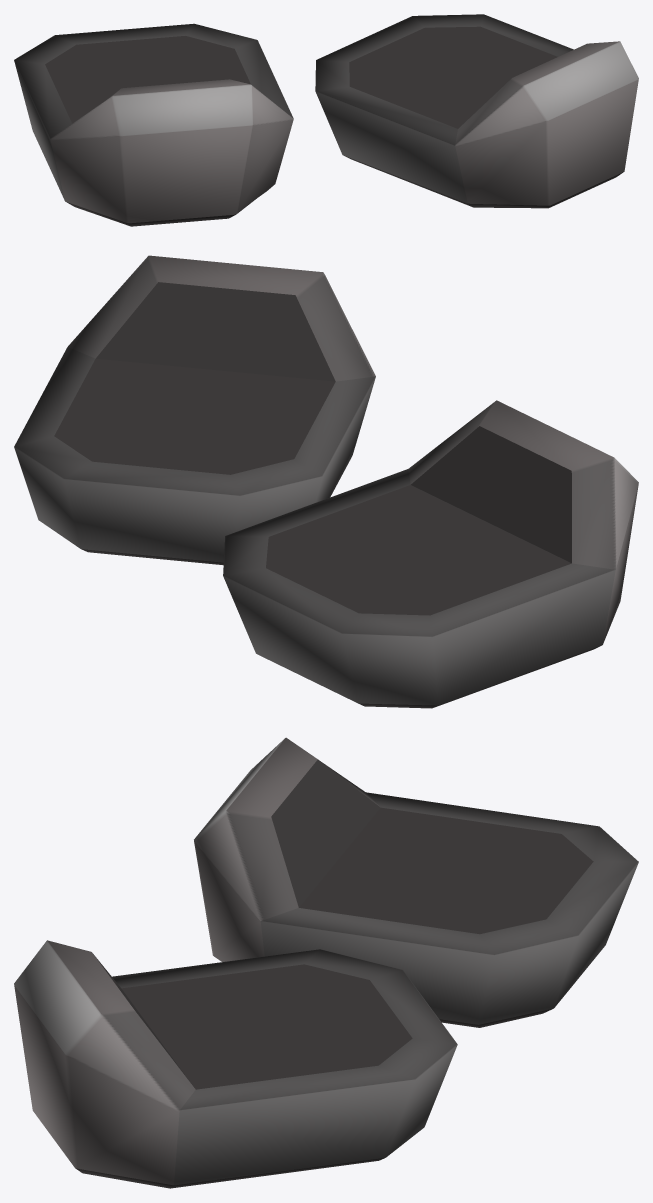
Rendered from Avatar_Shoe_Base_Mod.FBX.
3 renders of one model, top to bottom at view 1: azimuth 30°, elevation 25°; view 2: azimuth 150°, elevation 25°; view 3: azimuth 270°, elevation 25°, orthographic. The views are drawn at different scales.
Parts seen in each view (by area): view 1: Avatar_Shoe_Base_Mod; view 2: Avatar_Shoe_Base_Mod; view 3: Avatar_Shoe_Base_Mod.
Boxes of the visible parts, x1,y1,x2,y2 form: Avatar_Shoe_Base_Mod: [14, 14, 638, 226]; Avatar_Shoe_Base_Mod: [14, 255, 638, 708]; Avatar_Shoe_Base_Mod: [14, 737, 638, 1188].
Bounding box in the file's own units: 47.39 × 11.56 × 39.34.
